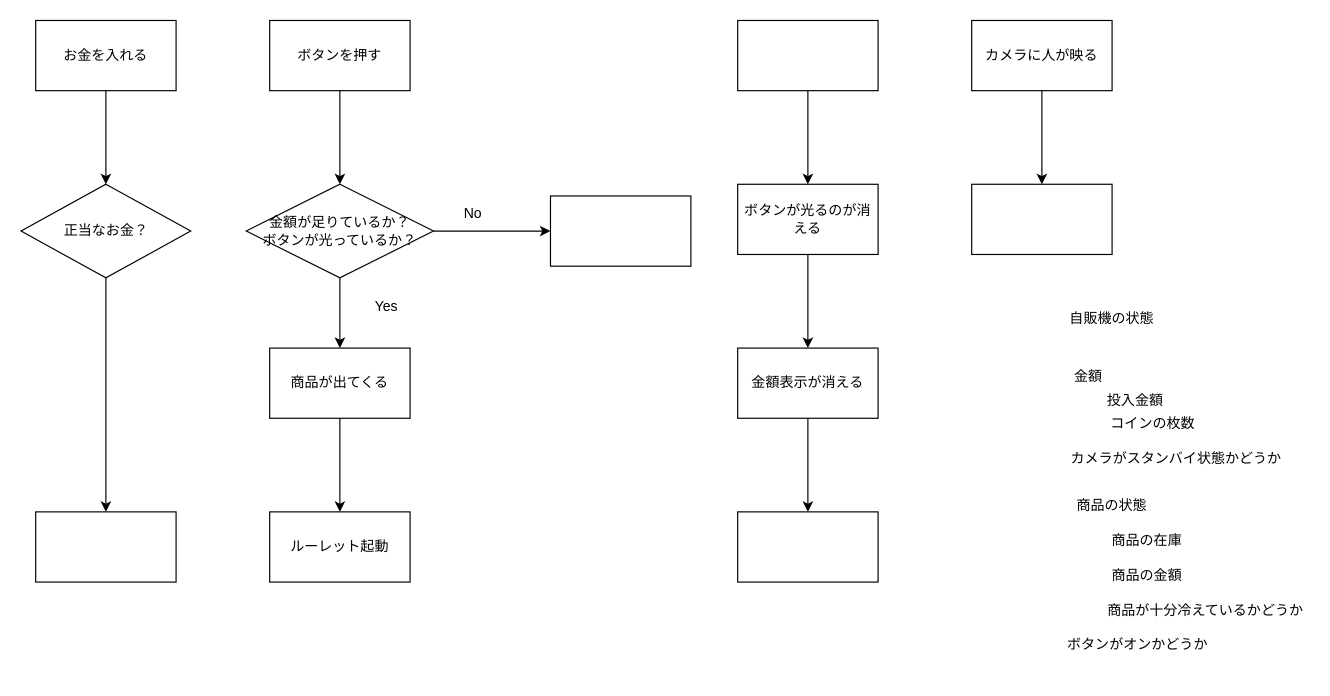
Image size: 1330x696. Some labels were removed from this diagram. Each missing label, with the box of its shape:
おすすめ商品を表示する: (971, 183, 1112, 254)
お金が戻ってくる: (737, 511, 878, 582)
お釣りレバーを押す: (737, 19, 878, 91)
なにも起こらない: (549, 195, 691, 266)
金額が表示される かつ ボタンが光る: (35, 511, 176, 582)
